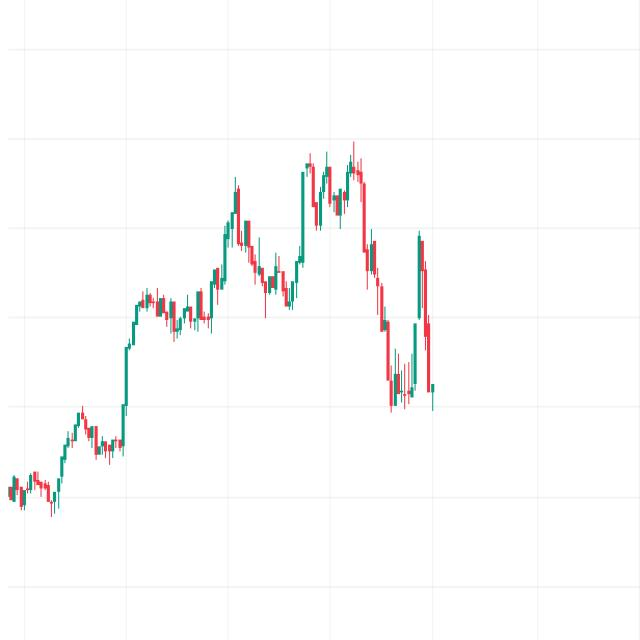Triple-Top: (292, 138, 374, 240)
